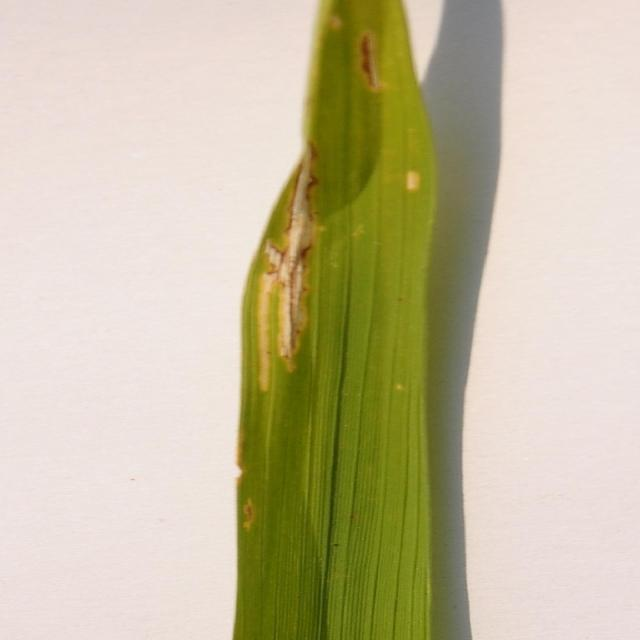Bacterial leaf blight: (233, 0, 449, 429), (237, 438, 270, 543)
